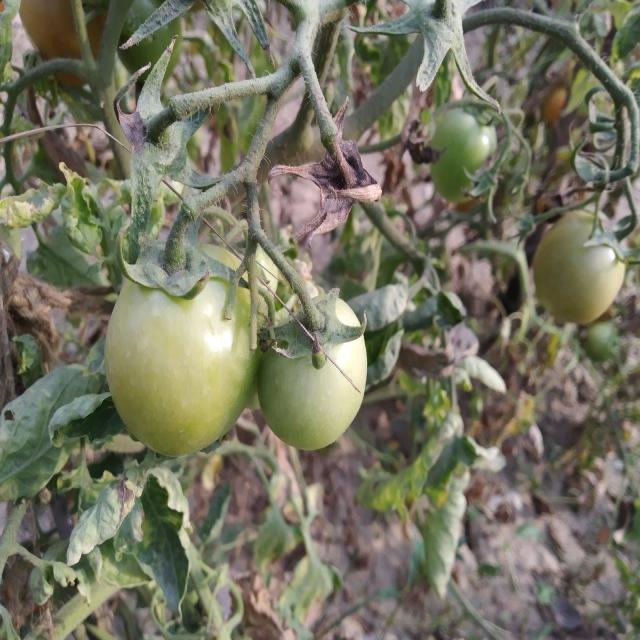Unripe: (104, 239, 262, 455), (257, 287, 368, 449)
